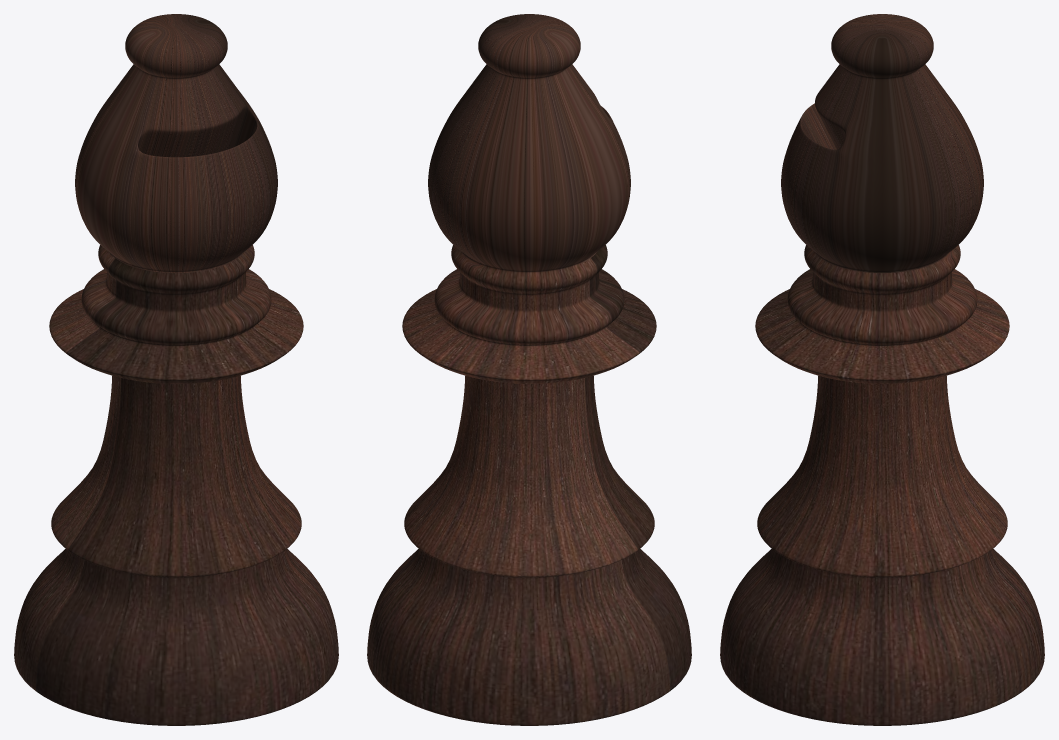
Rendered from BLACK_BISHOP.glb.
3 views of the same model, side by side, from view 1: azimuth 30°, elevation 25°; view 2: azimuth 150°, elevation 25°; view 3: azimuth 270°, elevation 25° (orthographic).
Visible parts, largest first — view 1: Cylinder002; view 2: Cylinder002; view 3: Cylinder002.
Part boxes in pixels (x1,y1,x2,y2): Cylinder002: [14, 14, 338, 725]; Cylinder002: [367, 14, 691, 725]; Cylinder002: [720, 14, 1044, 725].
Bounding box in the file's own units: 0.6752 × 1.45 × 0.6752.
Materials: 1 (1 with a texture image).
